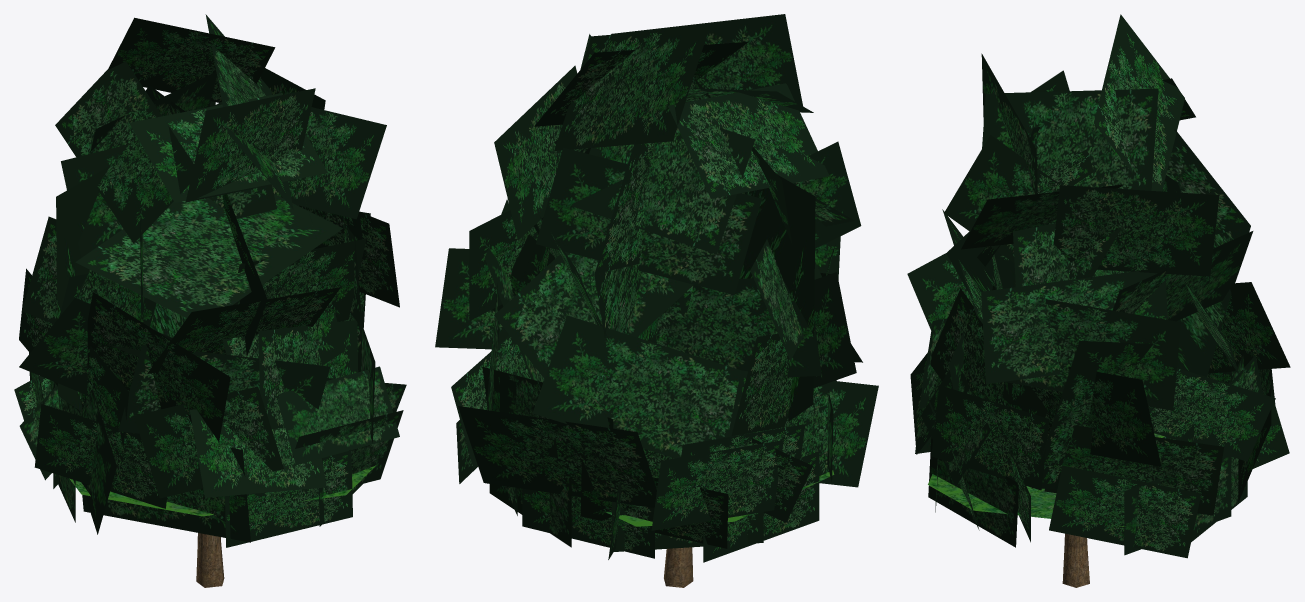
The model's file is gen_tree_c.fbx.
3 views of the same model, side by side, from view 1: azimuth 30°, elevation 25°; view 2: azimuth 150°, elevation 25°; view 3: azimuth 270°, elevation 25° (orthographic). The views are drawn at different scales.
Parts seen in each view (by area): view 1: leaves, center_leaves_z, center_leaves_x, trunk_high, pasted__center_leaves_y; view 2: leaves, center_leaves_z, center_leaves_x, trunk_high; view 3: leaves, center_leaves_x, pasted__center_leaves_y, trunk_high.
Boxes of the visible parts, box(x1,y1,x2,y2) form: leaves: box(14, 14, 406, 547); center_leaves_z: box(56, 101, 222, 411); center_leaves_x: box(146, 86, 267, 356); trunk_high: box(196, 533, 224, 587); pasted__center_leaves_y: box(69, 465, 375, 516); leaves: box(435, 14, 878, 562); center_leaves_z: box(534, 148, 815, 421); center_leaves_x: box(594, 140, 658, 343); trunk_high: box(664, 547, 693, 587); leaves: box(907, 14, 1290, 558); center_leaves_x: box(946, 129, 1250, 376); pasted__center_leaves_y: box(928, 433, 1164, 526); trunk_high: box(1062, 533, 1089, 587).
Bounding box in the file's own units: 4662 × 6760 × 4329.
2 materials, 2 textured.
